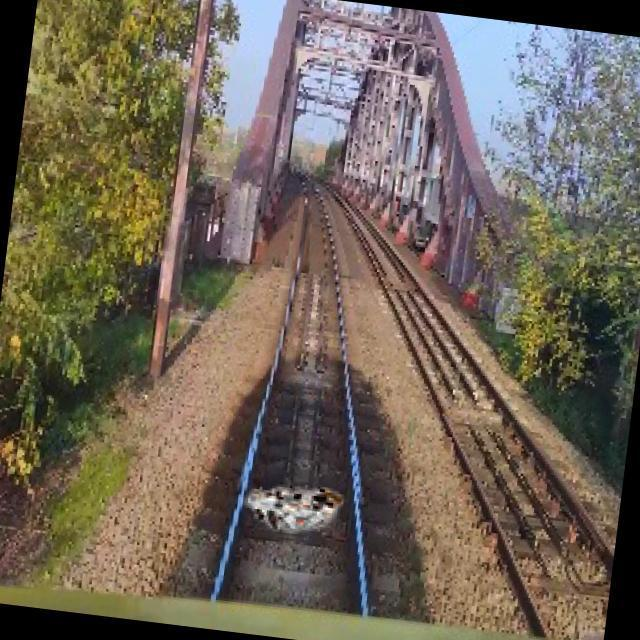rail: (177, 168, 391, 619)
